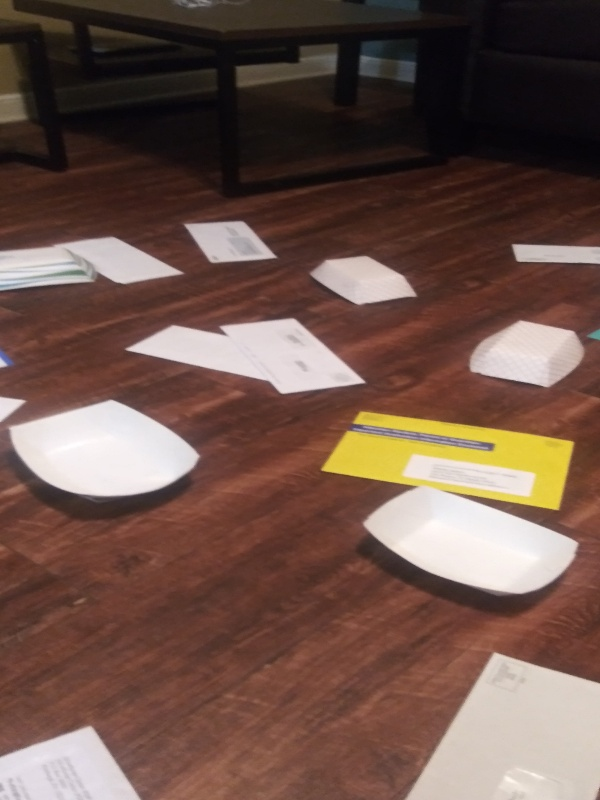plate: (358, 482, 581, 610), (5, 395, 206, 516), (463, 317, 588, 392), (303, 253, 420, 311), (1, 243, 103, 297)
